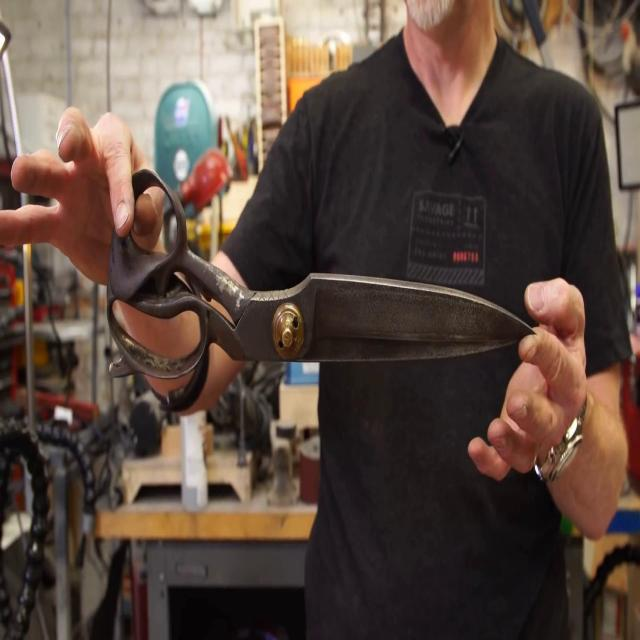scissor: (108, 169, 537, 381)
